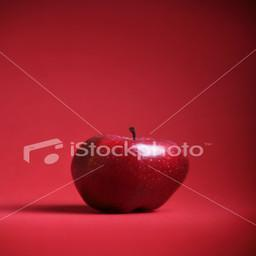apple: (68, 135, 188, 217)
